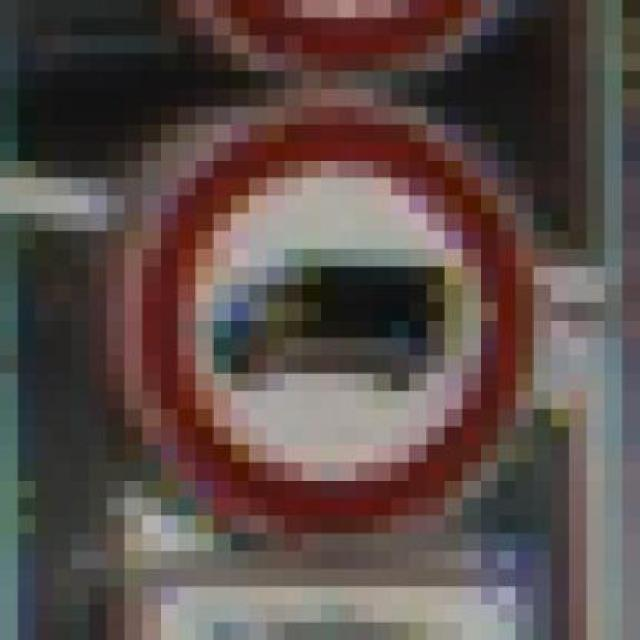Truck traffic is prohibited: (89, 89, 533, 569)
